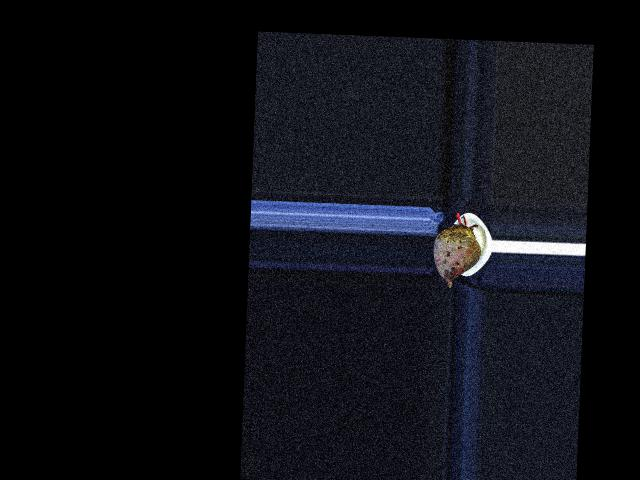beet: (433, 211, 482, 288)
